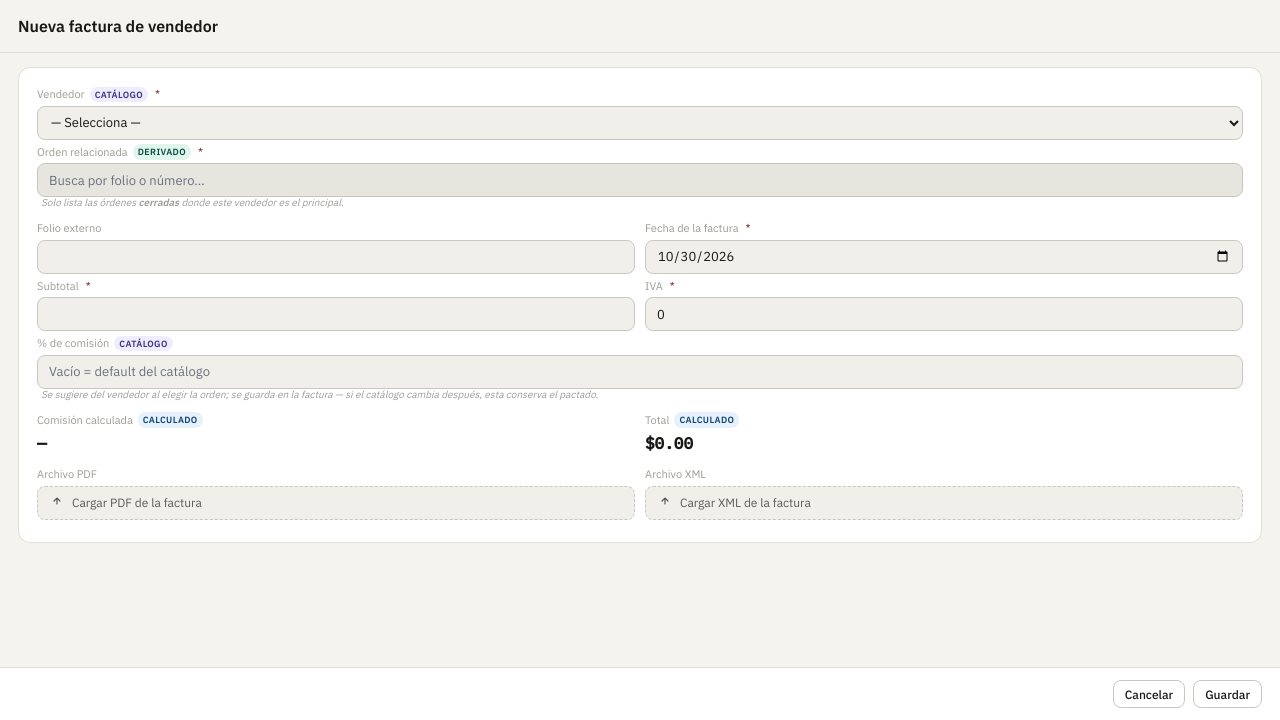
FacturaVendedorForm › al elegir una orden, sugiere el % de comisión del vendedor y calcula la comisión en vivo
Select "Juan Pérez" in the dropdown: (640, 122) [37, 106, 1243, 140]
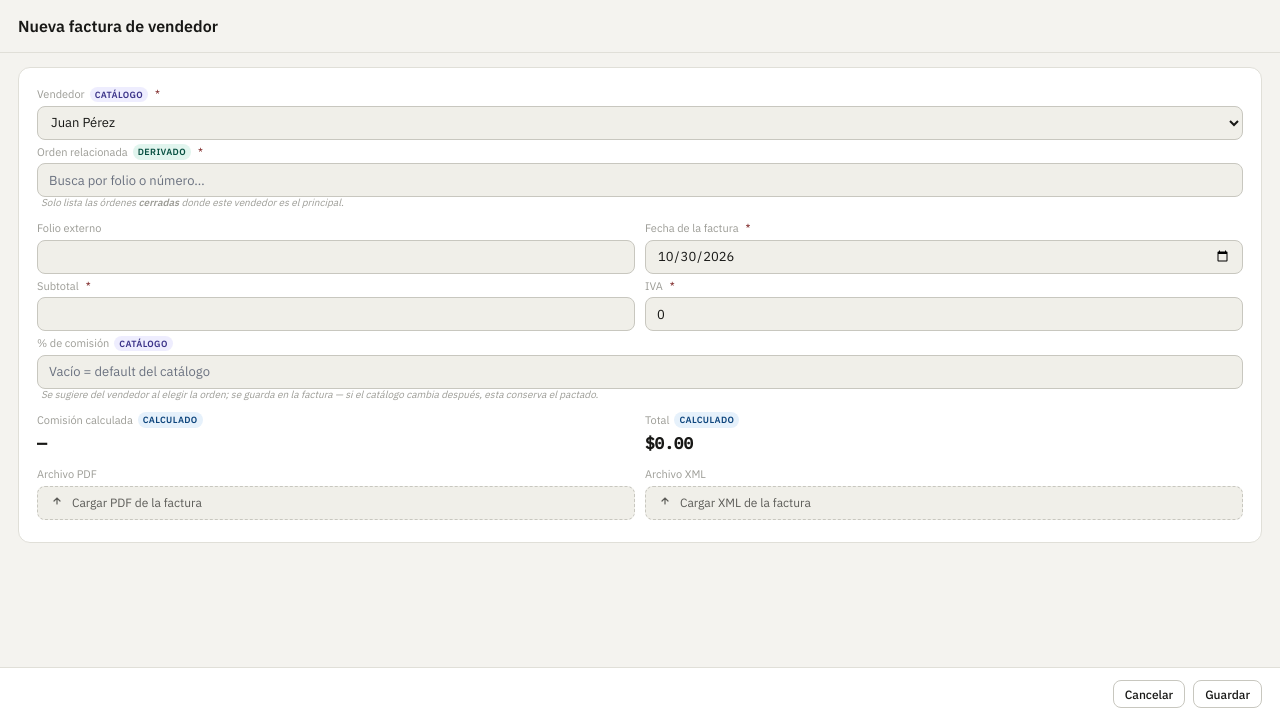
In the field with placeholder "Busca por folio o número…": (640, 180) [37, 163, 1243, 197], type "OC-2025-0041"
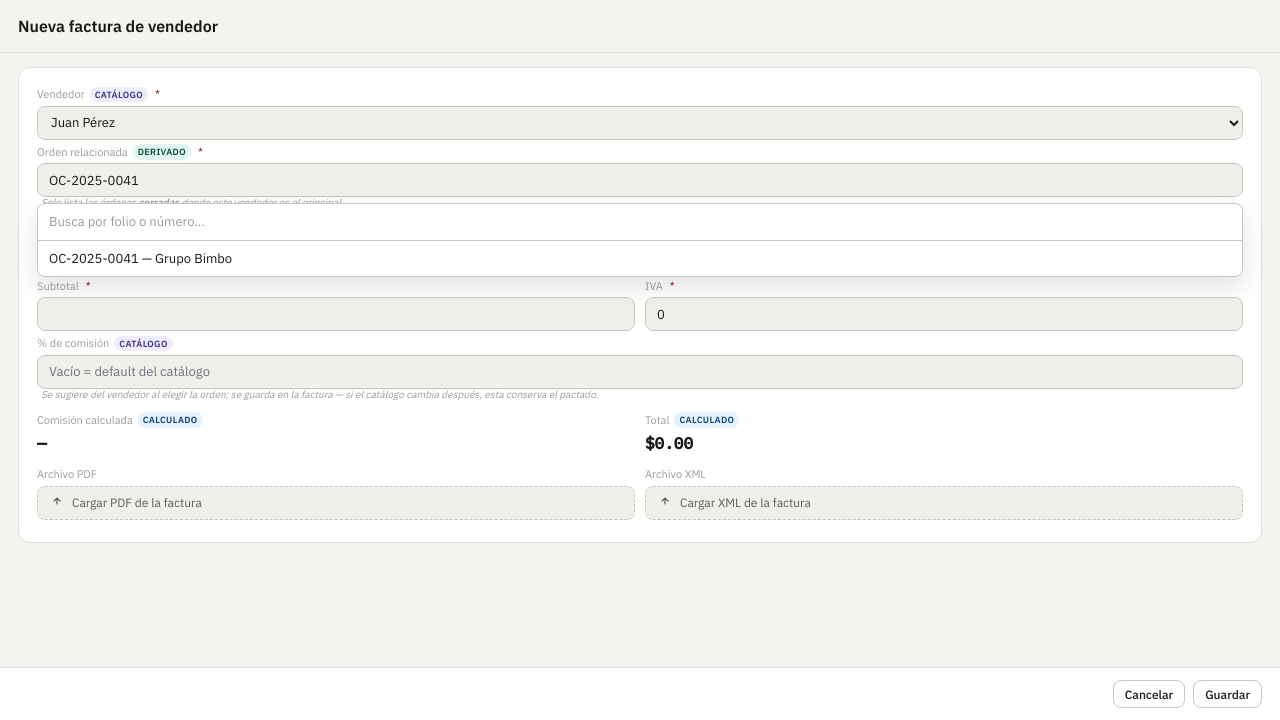
Press the mouse on the text "OC-2025-0041 — Grupo Bimbo": (141, 258) [49, 250, 232, 266]
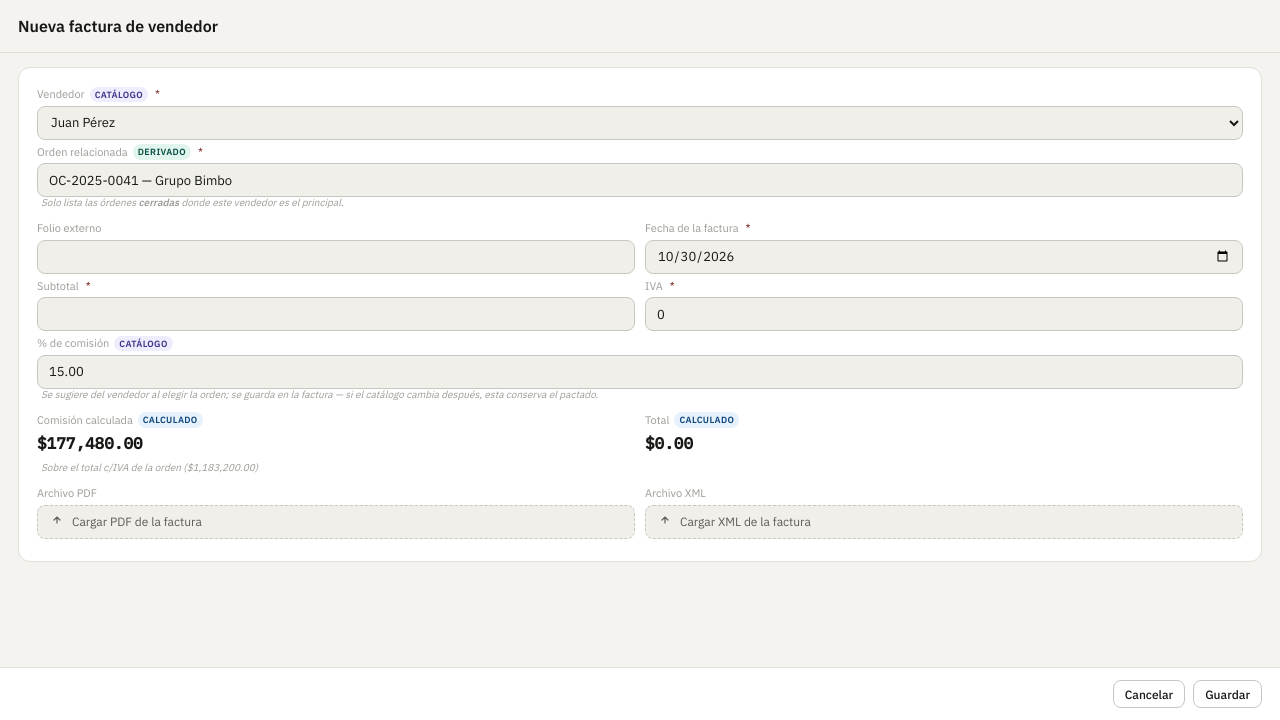
Expected: the text "$177,480.00" is shown, [37, 433, 143, 453]
Expected: the text "Sobre el total c/IVA de la orden ($1,183,200.00)" is shown, [41, 461, 258, 474]
